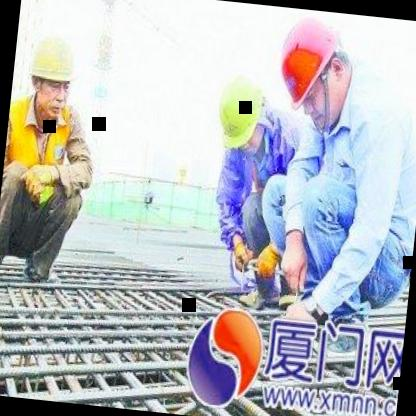helmet: (264, 6, 362, 140), (17, 21, 87, 127), (210, 61, 272, 157)
